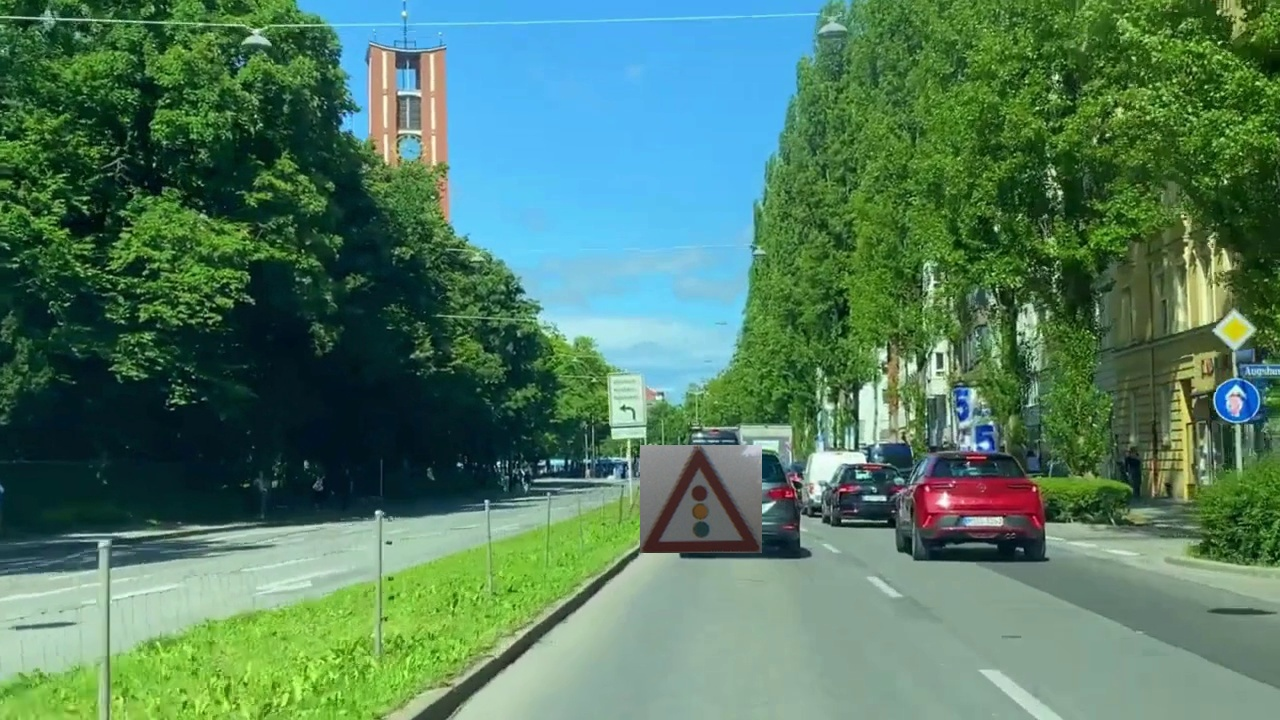Signals: (640, 445, 762, 553)
